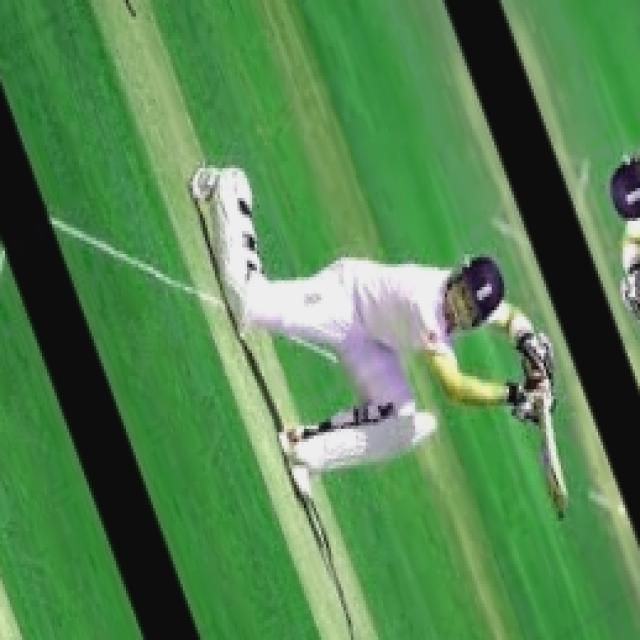bat: (515, 394, 585, 526)
toe: (551, 491, 566, 517)
